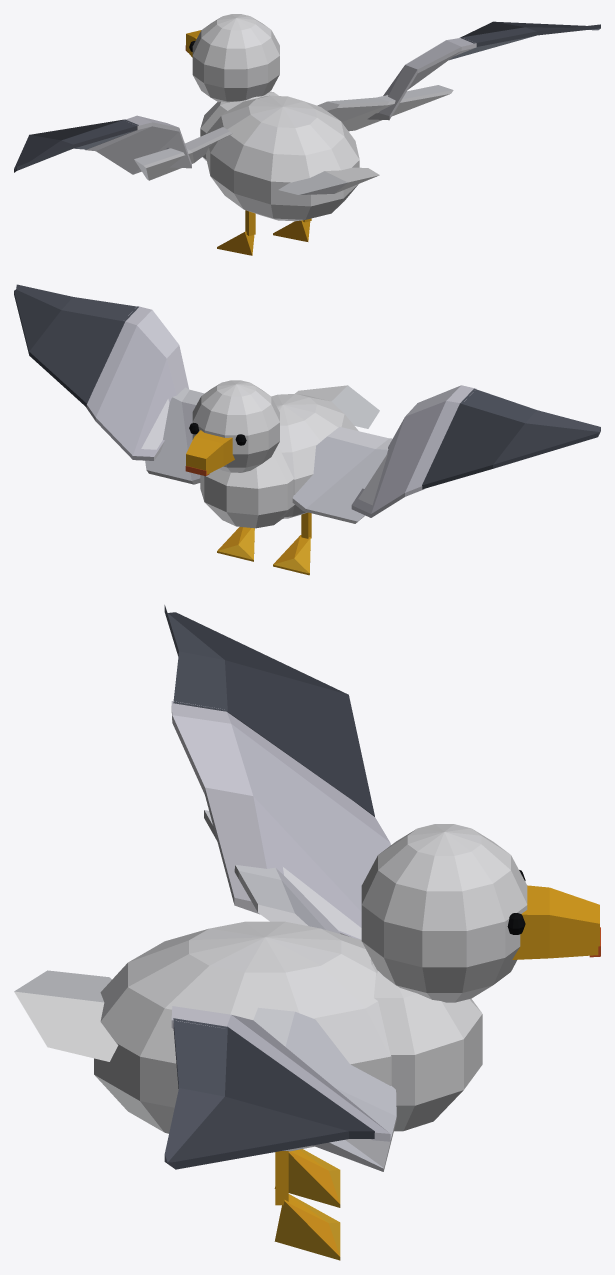
The model's file is hero_gull_parts.glb.
3 views of the same model, one above another, from view 1: azimuth 30°, elevation 25°; view 2: azimuth 150°, elevation 25°; view 3: azimuth 270°, elevation 25° (orthographic). The views are drawn at different scales.
Parts seen in each view (by area): view 1: Body, Head, ForeL, HandL, UpperR, ForeR, HandR, UpperL, Tail, Legs, Chest; view 2: ForeR, HandL, HandR, Head, ForeL, UpperL, Chest, Body, UpperR, Legs, Tail; view 3: Body, Head, ForeL, HandR, HandL, Chest, UpperR, Tail, Legs, ForeR, UpperL.
Part boxes in pixels (x1,y1,x2,y2): Body: (206,95,359,221); Head: (185,14,279,102); ForeL: (85,115,191,174); HandL: (14,119,138,172); UpperR: (317,85,453,131); ForeR: (367,38,476,120); HandR: (449,21,600,60); UpperL: (134,127,232,180); Tail: (278,167,379,194); Legs: (217,210,311,255); Chest: (200,91,278,160); ForeR: (86,306,188,460); HandL: (422,388,600,489); HandR: (14,284,138,406); Head: (185,380,279,476); ForeL: (351,385,476,517); UpperL: (292,426,392,523); Chest: (200,448,294,528); Body: (271,394,358,518); UpperR: (145,387,204,484); Legs: (217,512,311,575); Tail: (295,385,379,428); Body: (94,921,391,1151); Head: (361,824,600,1002); ForeL: (171,701,390,939); HandR: (164,1018,374,1169); HandL: (164,605,374,816); Chest: (370,959,482,1131); UpperR: (253,1007,396,1171); Tail: (14,970,118,1061); Legs: (274,1149,340,1260); ForeR: (171,1006,390,1167); UpperL: (204,810,340,933).
Bounding box in the file's own units: 2.72 × 0.888 × 1.23.
